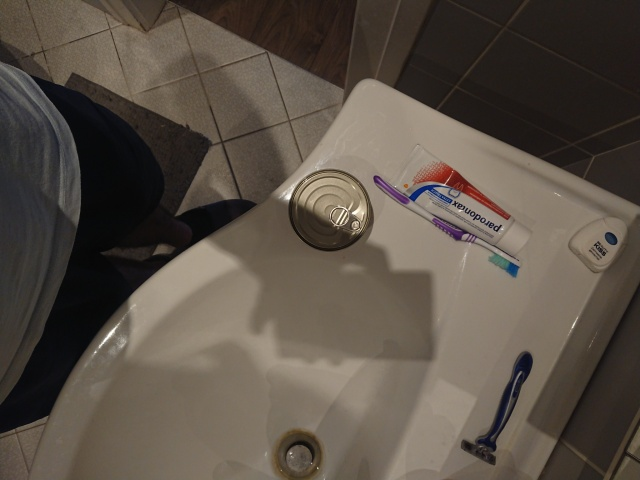Giana Tuna Salad Mexico 185g: (286, 167, 377, 253)
